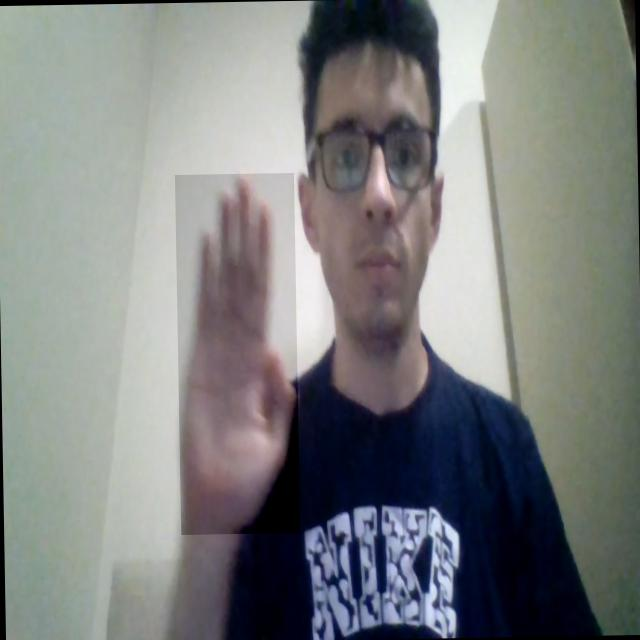hello: (175, 173, 301, 535)
